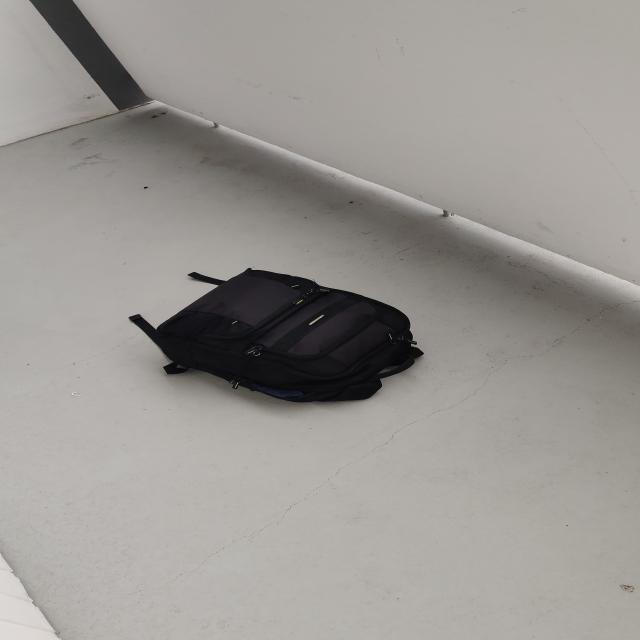backpack: (142, 262, 435, 411)
